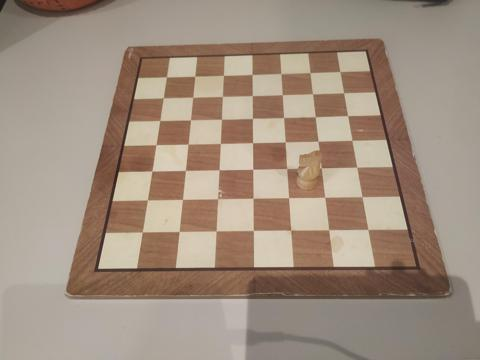xcorner: (137, 228, 147, 238), (211, 227, 221, 237), (248, 227, 258, 237), (324, 226, 334, 236), (363, 226, 373, 236), (142, 196, 152, 206), (177, 195, 187, 205), (248, 194, 258, 204), (284, 194, 294, 204), (320, 193, 330, 203), (357, 193, 367, 203), (147, 166, 157, 176), (180, 166, 190, 176), (214, 165, 224, 175), (282, 164, 292, 174), (317, 163, 327, 173), (183, 139, 193, 149), (215, 138, 225, 148), (248, 137, 258, 147), (280, 137, 290, 147), (313, 136, 323, 146), (347, 135, 357, 145), (155, 115, 165, 125), (186, 114, 196, 124), (279, 112, 289, 122), (310, 111, 320, 121), (342, 110, 352, 120), (159, 92, 169, 102), (188, 92, 198, 102), (247, 90, 257, 100), (277, 89, 287, 99), (308, 88, 318, 98), (162, 72, 172, 82), (190, 71, 200, 81), (219, 70, 229, 80), (247, 69, 257, 79), (276, 68, 286, 78), (305, 67, 315, 77), (334, 66, 344, 76), (174, 228, 184, 237), (286, 227, 296, 236), (213, 195, 222, 205), (248, 165, 258, 174), (352, 163, 361, 173), (151, 140, 161, 149), (217, 113, 226, 123), (248, 113, 257, 123), (218, 91, 227, 101), (338, 88, 348, 97)
